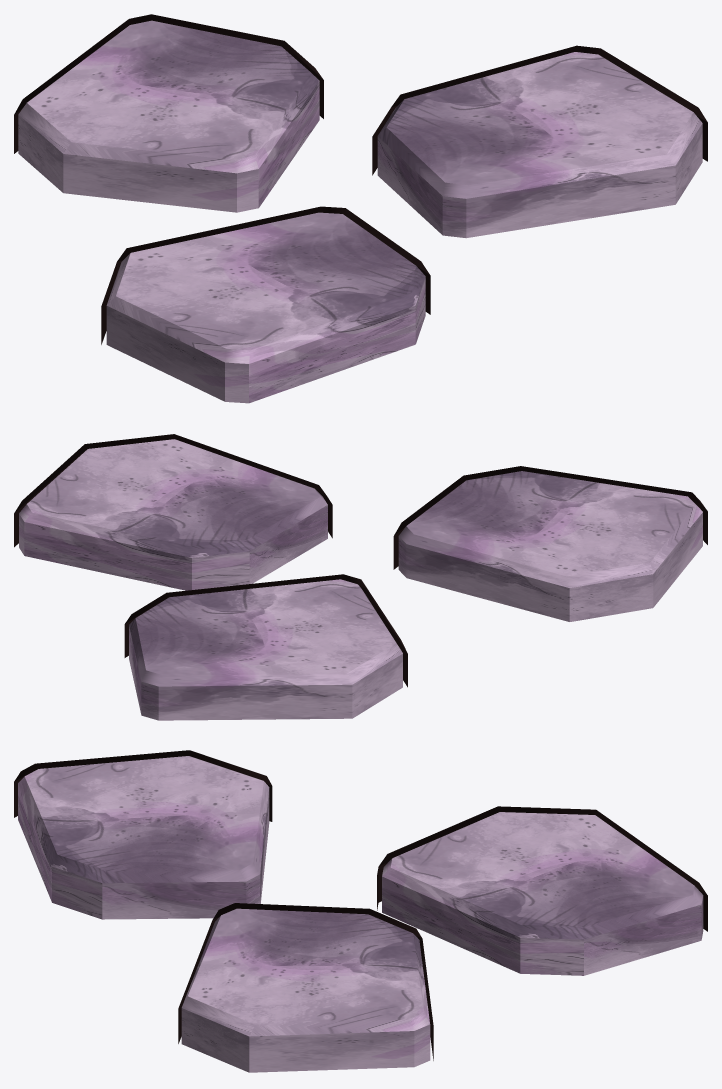
Rendered from mesh_rocks_path_01.fbx.
3 views of the same model, one above another, from view 1: azimuth 30°, elevation 25°; view 2: azimuth 150°, elevation 25°; view 3: azimuth 270°, elevation 25° (orthographic). The views are drawn at different scales.
Visible parts, largest first — view 1: mesh_rocks_path_01; view 2: mesh_rocks_path_01; view 3: mesh_rocks_path_01.
Part boxes in pixels (x1=…): mesh_rocks_path_01: x1=14, y1=14, x2=707, y2=403; mesh_rocks_path_01: x1=14, y1=434, x2=707, y2=720; mesh_rocks_path_01: x1=14, y1=750, x2=707, y2=1072.
Size of the model in its own units: 1.88 by 0.1729 by 1.93.
Materials: 2 (1 with a texture image).
